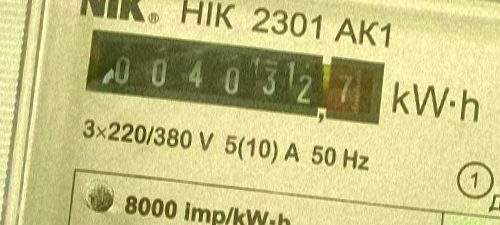0: (148, 56, 171, 91), (222, 63, 244, 98), (112, 53, 134, 87)
2: (295, 72, 316, 107)
3: (260, 65, 281, 99)
4: (185, 57, 208, 95)
7: (336, 73, 356, 107)
screen: (75, 21, 396, 139)
